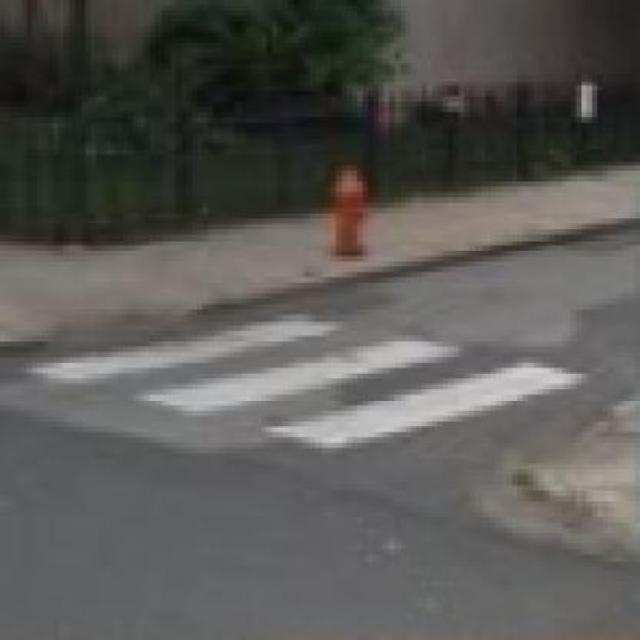crosswalk: (26, 311, 596, 453)
